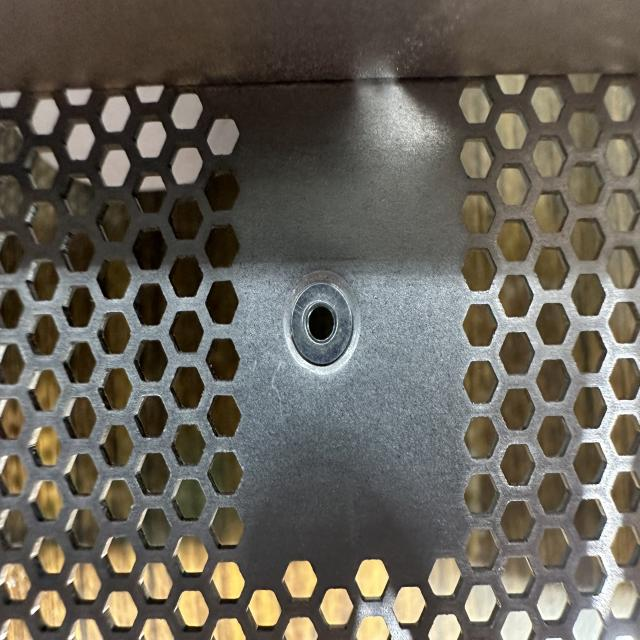Missing screw: (274, 258, 368, 382)
